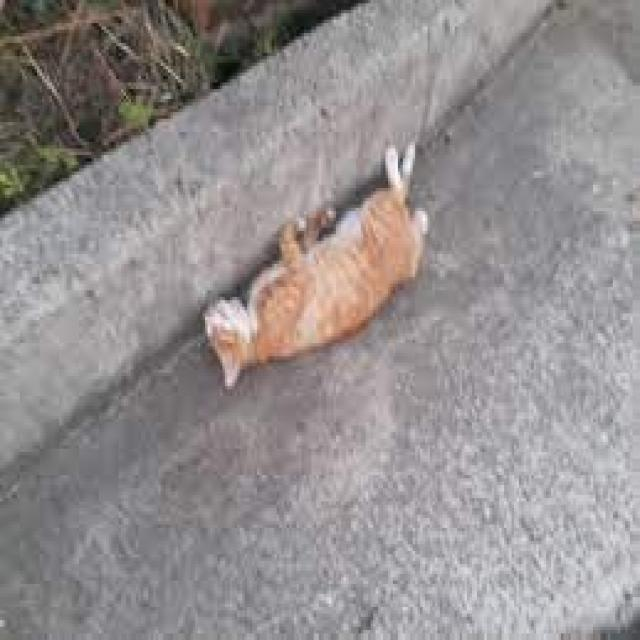cat: (199, 128, 436, 416)
